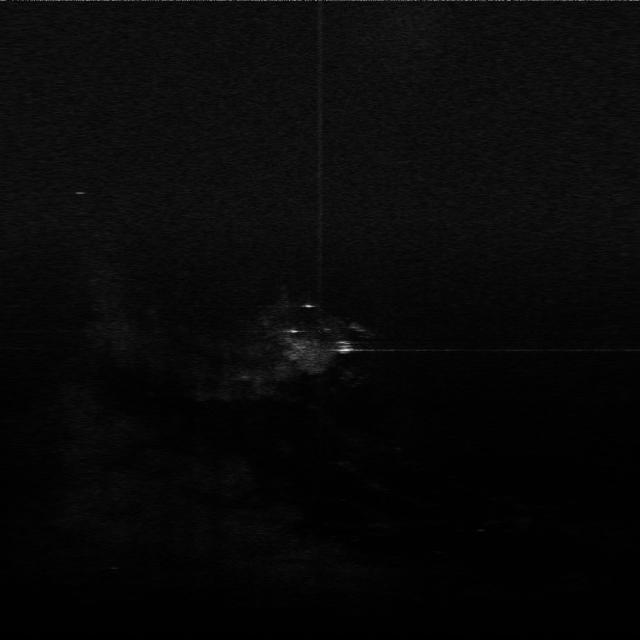rov: (333, 338, 353, 354)
